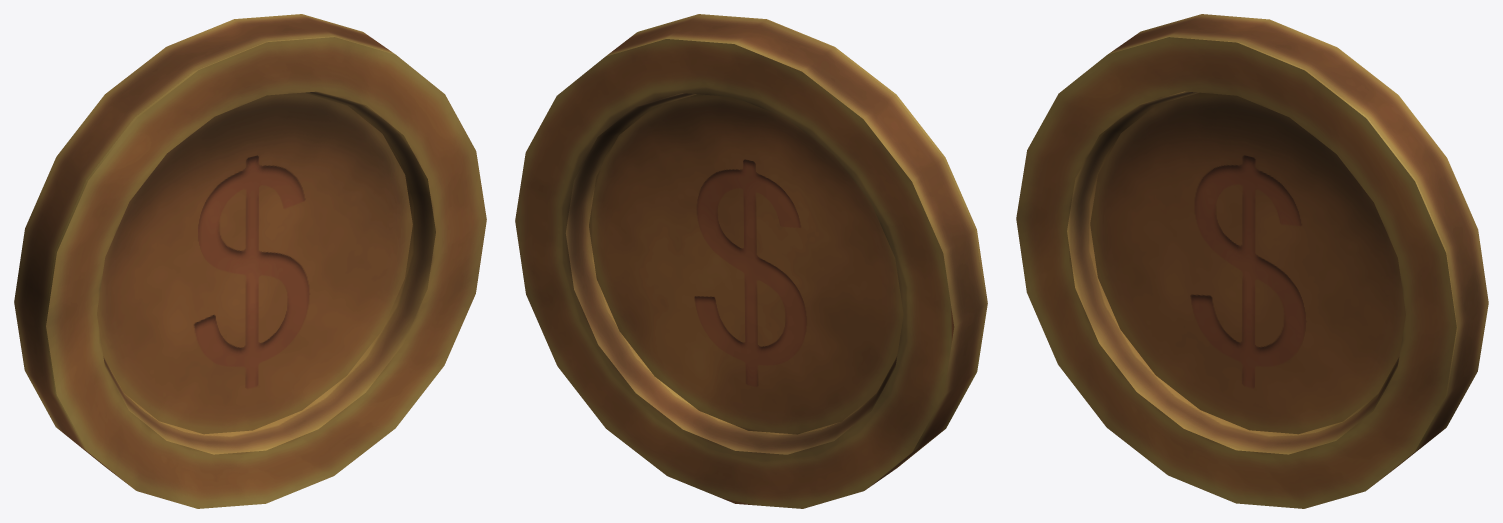
Rendered from CoinCopper.obj.
3 views of the same model, side by side, from view 1: azimuth 30°, elevation 25°; view 2: azimuth 150°, elevation 25°; view 3: azimuth 330°, elevation 25° (orthographic).
Parts seen in each view (by area): view 1: Default_Layer; view 2: Default_Layer; view 3: Default_Layer.
Part boxes in pixels (left/top/right/bottom): Default_Layer: left=14, top=14, right=486, bottom=508; Default_Layer: left=515, top=14, right=987, bottom=508; Default_Layer: left=1016, top=14, right=1488, bottom=508.
Bounding box in the file's own units: 0.4179 × 0.4179 × 0.0538.
